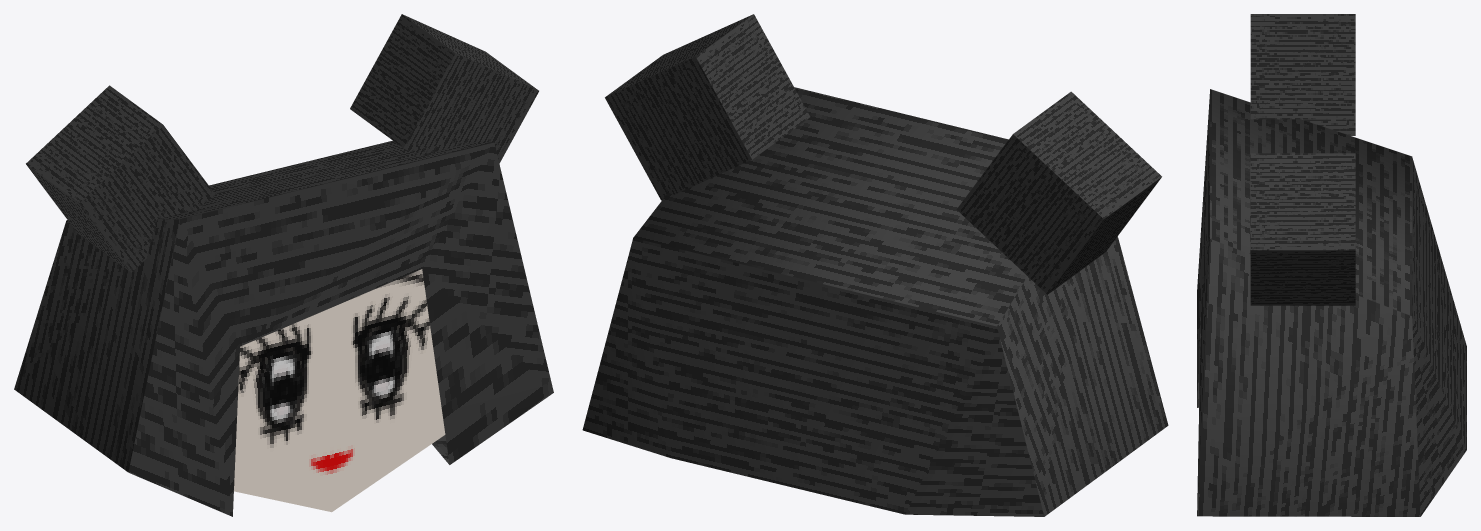
File: C_GH_Head_F5.FBX
3 renders of one model, left to right at view 1: azimuth 30°, elevation 25°; view 2: azimuth 150°, elevation 25°; view 3: azimuth 270°, elevation 25°, orthographic. The views are drawn at different scales.
Visible parts, largest first — view 1: Hair, Face; view 2: Hair; view 3: Hair.
Boxes of the visible parts, x1,y1,x2,y2 form: Hair: (14, 14, 553, 516); Face: (234, 269, 445, 512); Hair: (582, 14, 1168, 516); Hair: (1197, 14, 1466, 516).
Size of the model in its own units: 35.84 by 30.48 by 18.62.
Materials: 2 (2 with a texture image).
